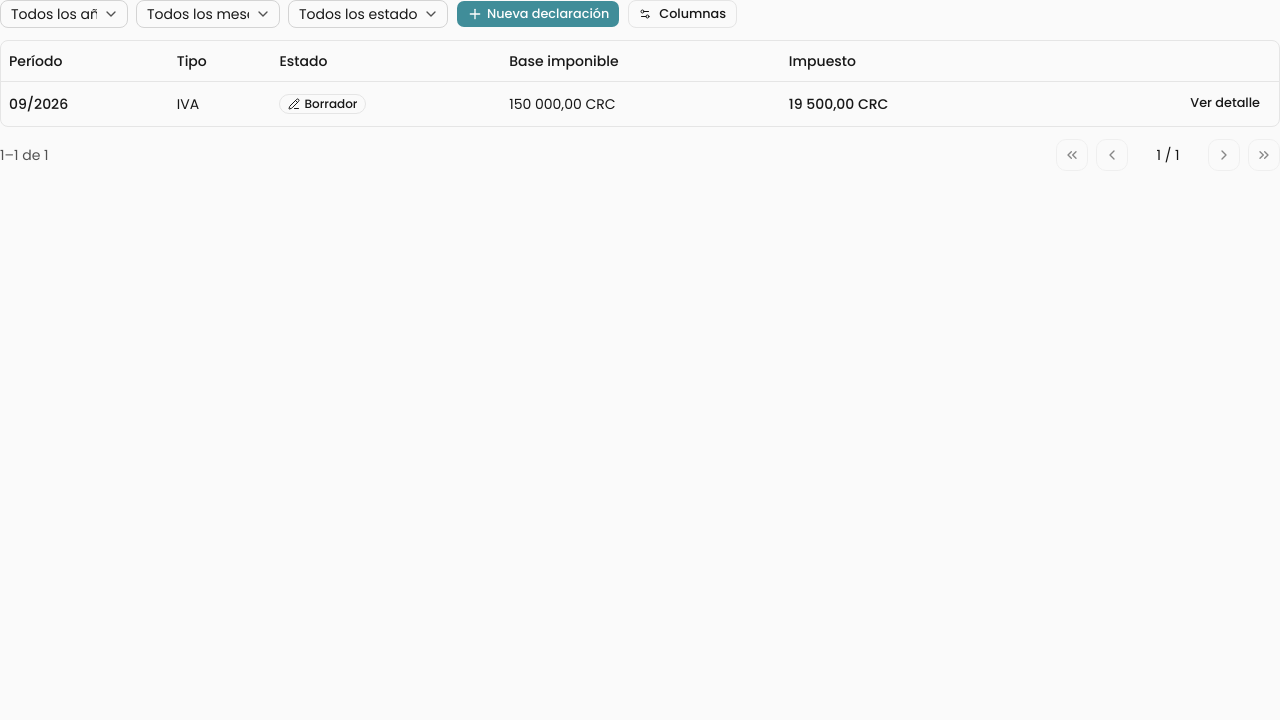
Test case: FinanceTaxDeclarations — el detalle › el IVA soportado dice N/A con el texto LITERAL del backend
The image size is (1280, 720).
Click the button "Ver detalle".
click(1225, 104)  # box [1179, 90, 1271, 118]
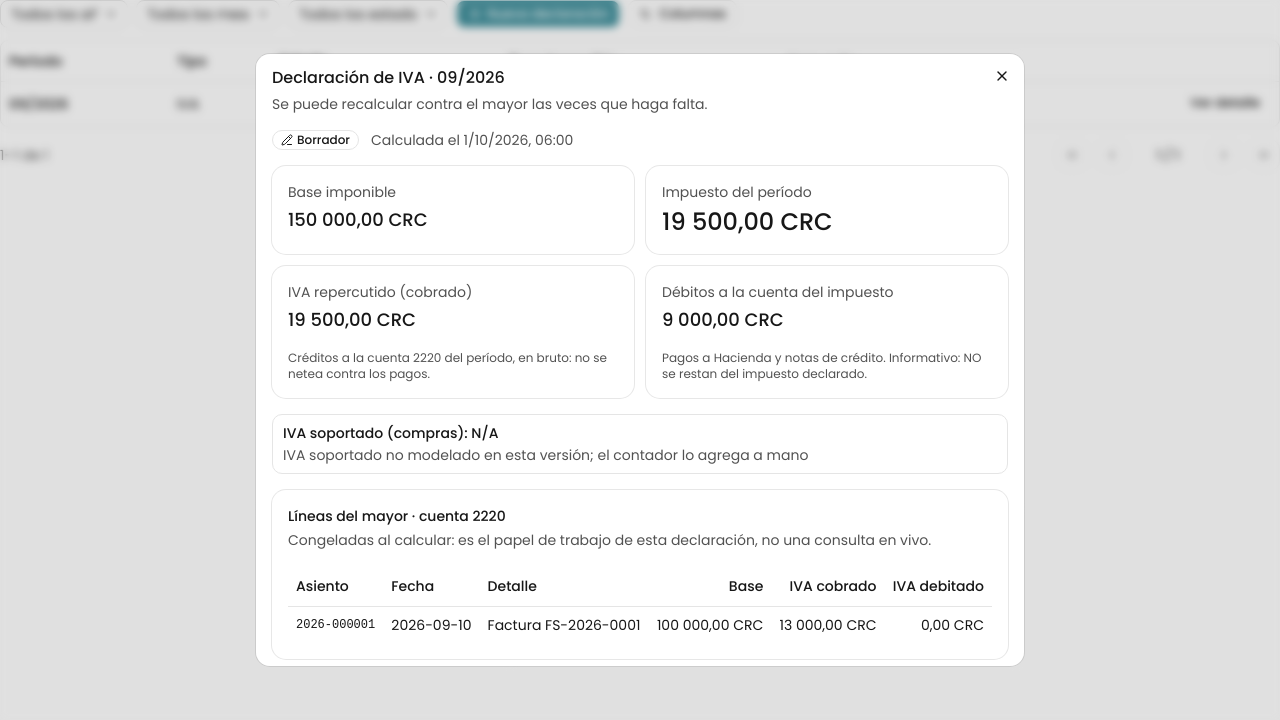
Expected: the text "IVA soportado (compras): N/A" is shown, [283, 423, 498, 443]
Expected: the text "IVA soportado no modelado en esta versión; el contador lo agrega a mano" is shown, [283, 445, 808, 465]
